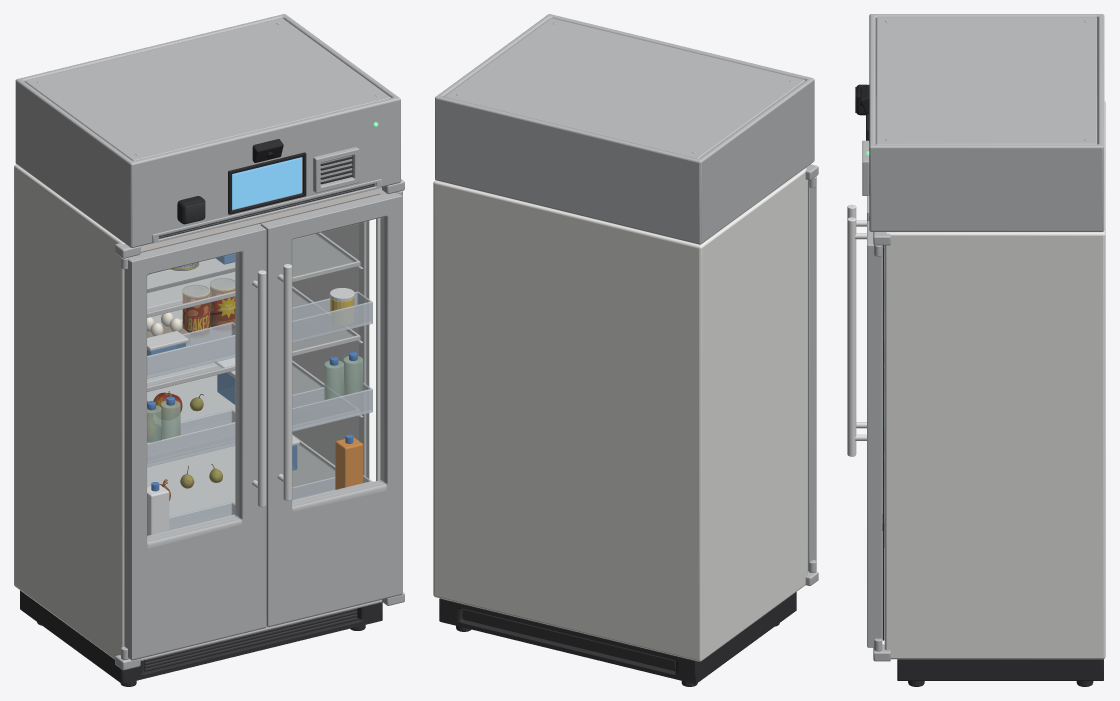
Rendered from fridge.glb.
The picture shows the model from 3 angles, left to right: view 1: azimuth 30°, elevation 25°; view 2: azimuth 150°, elevation 25°; view 3: azimuth 270°, elevation 25°; orthographic projection. The views are drawn at different scales.
Parts seen in each view (by area): view 1: Cabinet_Shell, Door_L_Frame, Door_R_Frame, Electronics_Housing, Electronics_Top_Panel, Door_L_Glass, Door_R_Glass, Cabinet_Liner, Interior_Rear_Panel, Shelf_01_Glass, Shelf_04_Glass, Cabinet_Plinth (+27 smaller); view 2: Cabinet_Shell, Electronics_Housing, Electronics_Top_Panel, Cabinet_Plinth, Door_L_Frame, Cabinet_Compressor_Bay; view 3: Cabinet_Shell, Electronics_Top_Panel, Electronics_Housing, Door_R_Frame, Cabinet_Plinth, Door_R_Handle, Door_R_Gasket, Sensor_Enclosure.
Part boxes in pixels (left/top/right/bottom): Cabinet_Shell: left=14, top=164, right=385, bottom=660; Door_L_Frame: left=124, top=224, right=266, bottom=660; Door_R_Frame: left=260, top=192, right=402, bottom=627; Electronics_Housing: left=15, top=14, right=400, bottom=247; Electronics_Top_Panel: left=25, top=18, right=391, bottom=160; Door_L_Glass: left=147, top=253, right=238, bottom=539; Door_R_Glass: left=292, top=217, right=383, bottom=504; Cabinet_Liner: left=147, top=218, right=380, bottom=486; Interior_Rear_Panel: left=147, top=319, right=235, bottom=516; Shelf_01_Glass: left=147, top=444, right=334, bottom=516; Shelf_04_Glass: left=147, top=234, right=353, bottom=311; Cabinet_Plinth: left=20, top=590, right=382, bottom=683; Cabinet_Shell: left=433, top=168, right=807, bottom=661; Electronics_Housing: left=435, top=14, right=814, bottom=244; Electronics_Top_Panel: left=444, top=18, right=805, bottom=158; Cabinet_Plinth: left=439, top=592, right=796, bottom=683; Door_L_Frame: left=808, top=180, right=816, bottom=570; Cabinet_Compressor_Bay: left=463, top=609, right=675, bottom=671; Cabinet_Shell: left=884, top=101, right=1105, bottom=659; Electronics_Top_Panel: left=876, top=17, right=1097, bottom=144; Electronics_Housing: left=869, top=14, right=1104, bottom=231; Door_R_Frame: left=867, top=221, right=882, bottom=647; Cabinet_Plinth: left=897, top=659, right=1103, bottom=680; Door_R_Handle: left=847, top=217, right=856, bottom=456; Door_R_Gasket: left=882, top=245, right=884, bottom=640; Sensor_Enclosure: left=862, top=140, right=869, bottom=195.
Size of the model in its own units: 1.04 by 1.9 by 0.812.
32 materials, 4 textured.
